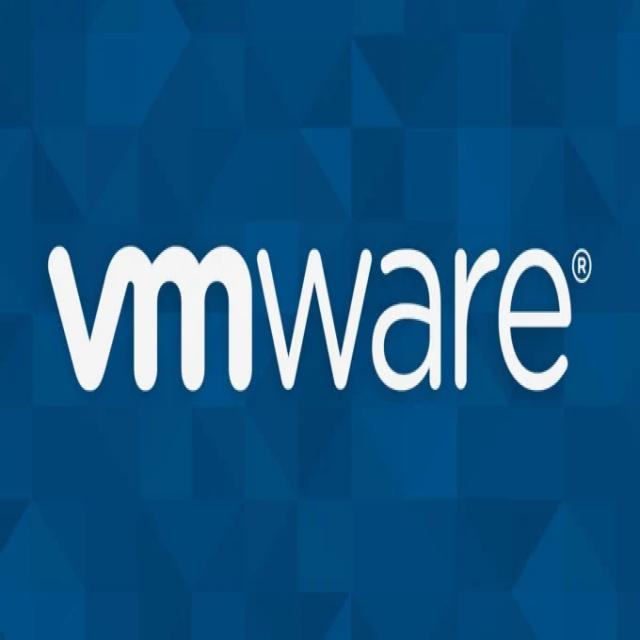vmware: (48, 245, 252, 391)
